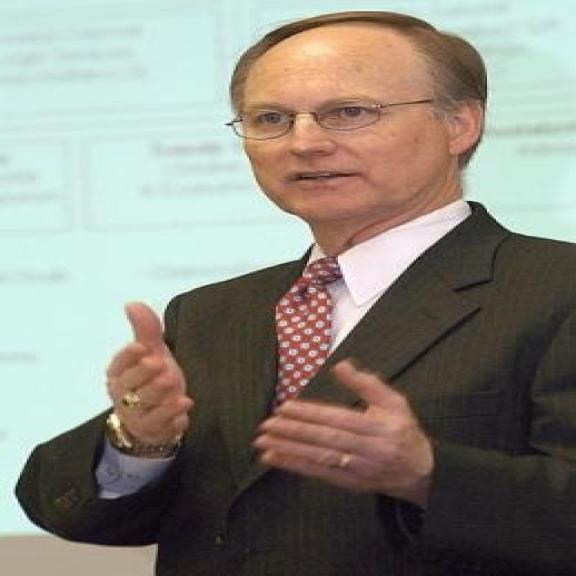face: (224, 20, 489, 220)
